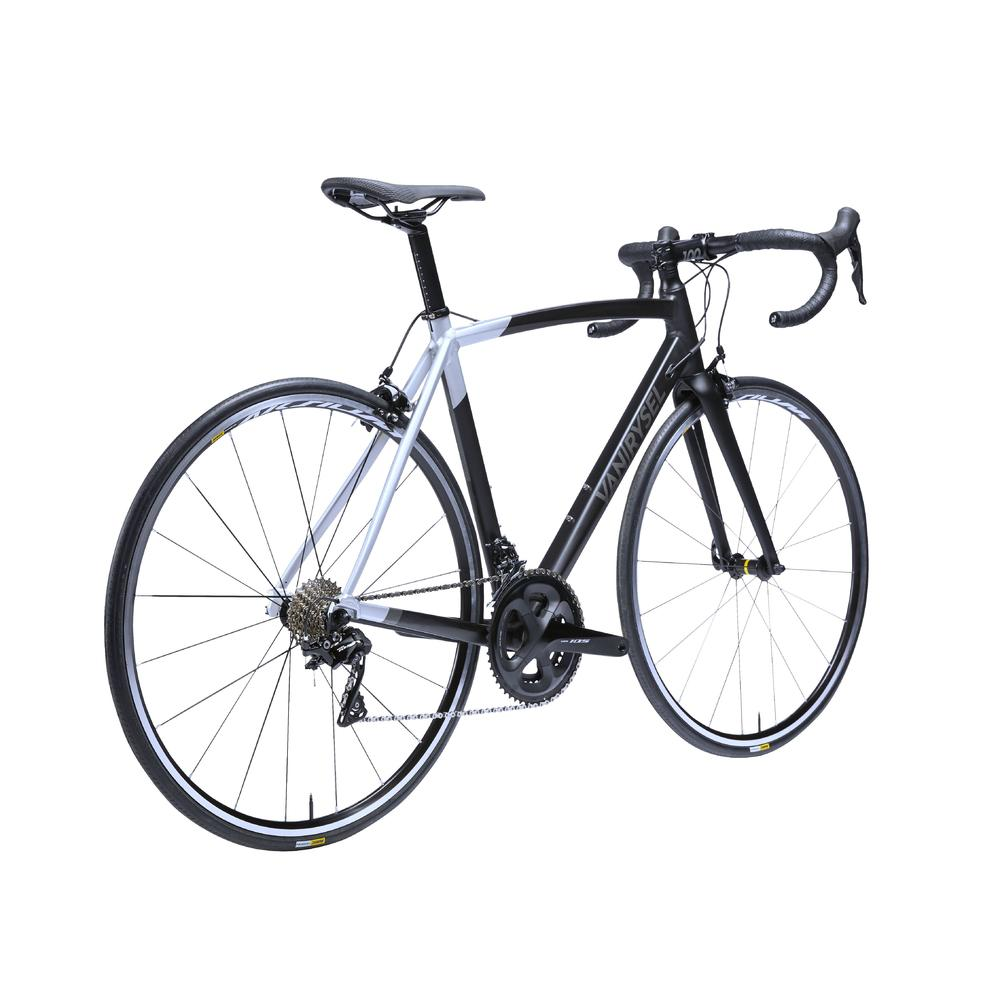RoadBike: (69, 235, 932, 763)
